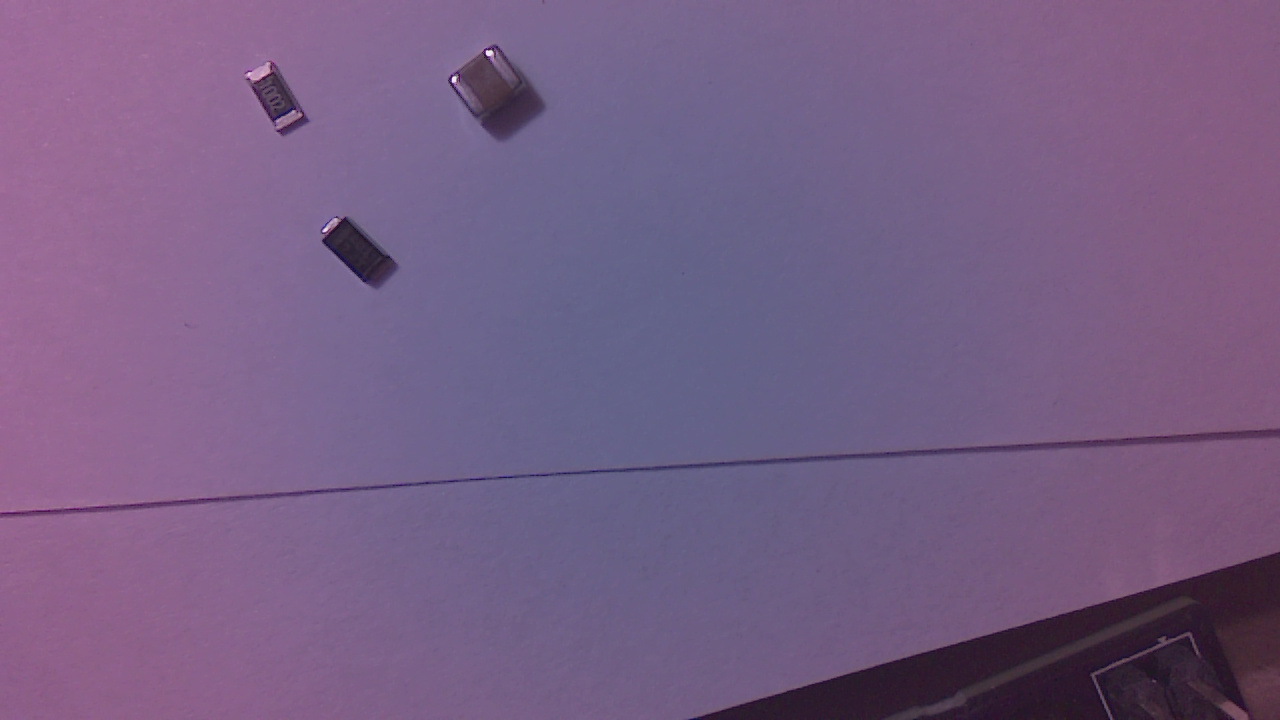Condensator: (453, 49, 536, 128)
Diode: (323, 219, 402, 292)
Resistor: (250, 65, 314, 142)
